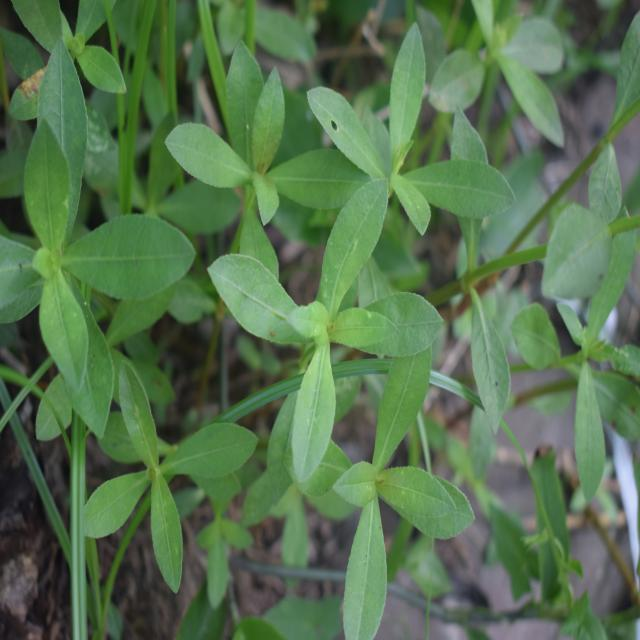Alligatorweed: (225, 166, 449, 462), (0, 80, 195, 404), (273, 322, 462, 625), (303, 25, 498, 275), (175, 47, 348, 270)
